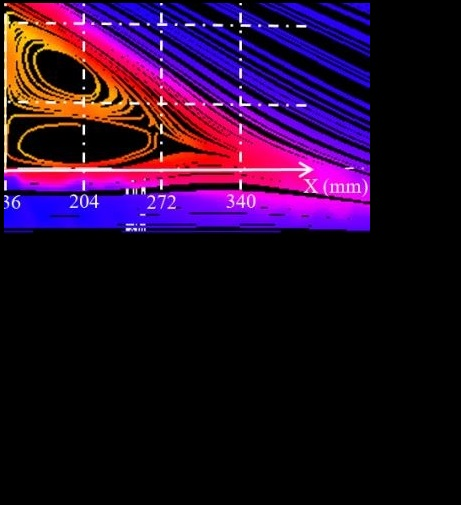vortox: (6, 20, 148, 119)
